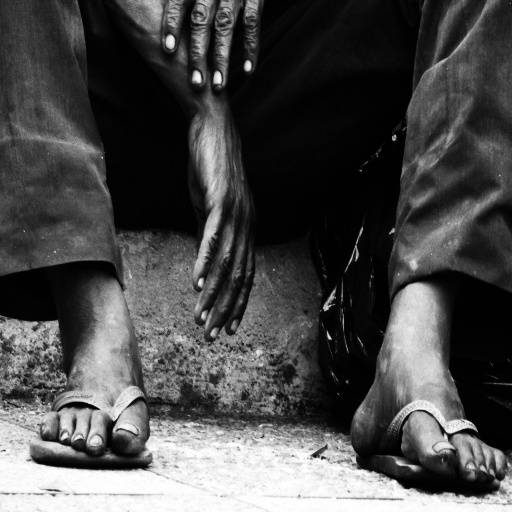hand: (150, 22, 266, 360), (159, 0, 265, 92)
